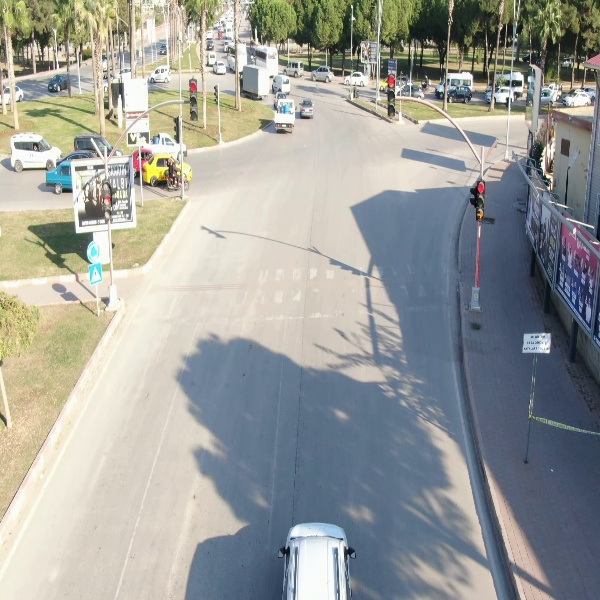car: (7, 131, 64, 173), (42, 72, 74, 96), (307, 64, 338, 87), (562, 87, 595, 108), (146, 63, 174, 85), (446, 85, 476, 105), (341, 69, 371, 88), (277, 59, 307, 78), (298, 96, 316, 121)
